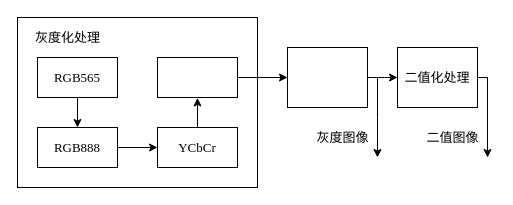
The diagram is 513 pixels wide and 205 high, and some of its shapes have lost their labels. Each missing label, with the centre of its shape:
"均值滤波" goes at [327,77].
"选取 Y 分量" goes at [197,77].
